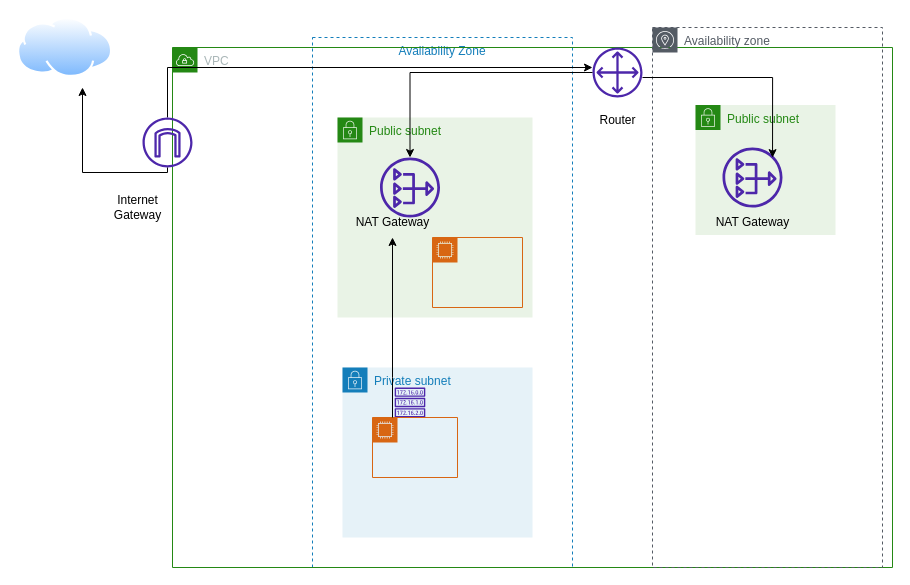
Some shapes in this 910 by 585 pixel diagram are drawn without their labels. The box of each missing label's shape, as (x1, y1, x2, y2) in pixels:
Bastion Host Security Group: (432, 236, 522, 308)
EC2 private Security Group: (372, 416, 458, 478)
Internet: (17, 17, 112, 77)
